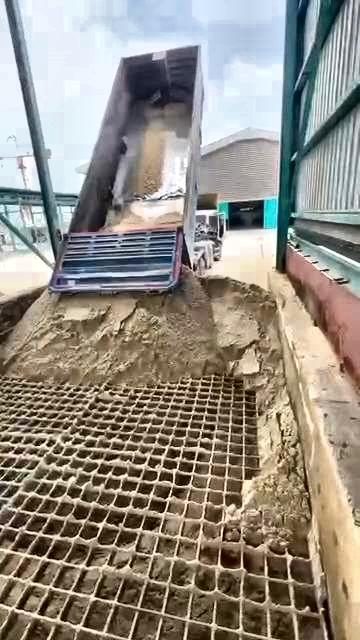sand: (4, 269, 309, 552), (131, 117, 165, 196), (103, 204, 181, 231)
